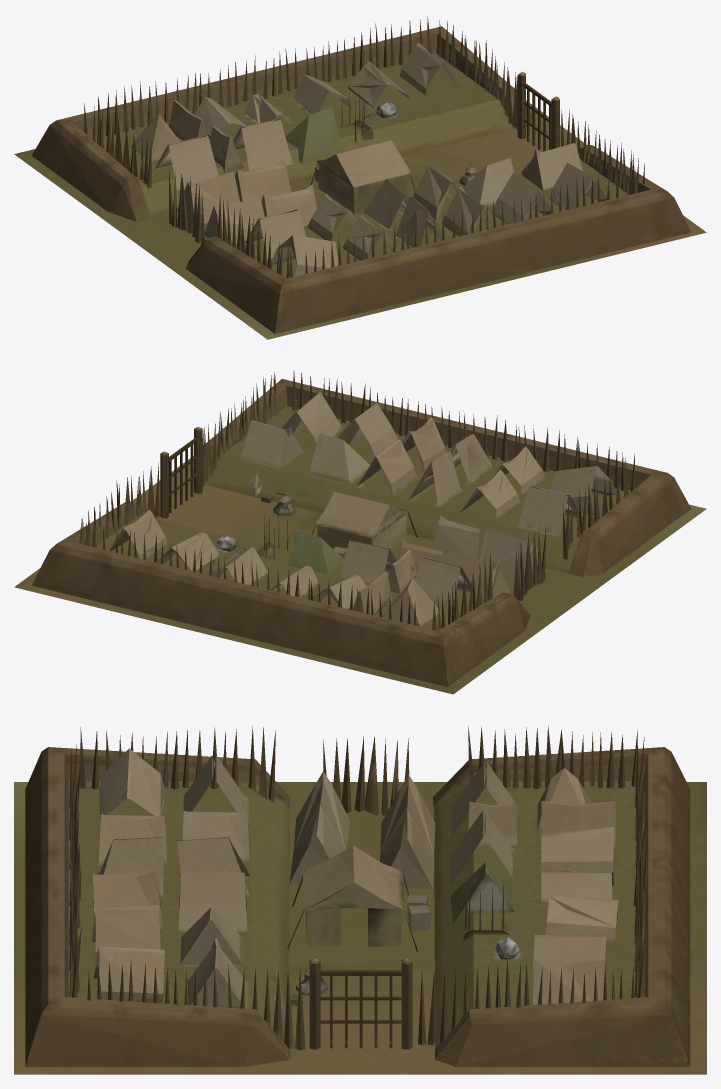
File: camp.fbx
The picture shows the model from 3 angles, top to bottom: view 1: azimuth 30°, elevation 25°; view 2: azimuth 150°, elevation 25°; view 3: azimuth 270°, elevation 25°; orthographic projection. The views are drawn at different scales.
Parts seen in each view (by area): view 1: tripo_node_af1d0eba; view 2: tripo_node_af1d0eba; view 3: tripo_node_af1d0eba.
Boxes of the visible parts, x1,y1,x2,y2 form: tripo_node_af1d0eba: (14,16,706,339); tripo_node_af1d0eba: (14,370,706,694); tripo_node_af1d0eba: (14,725,706,1074).
Size of the model in its own units: 250 by 37.47 by 250.
Materials: 1 (1 with a texture image).
